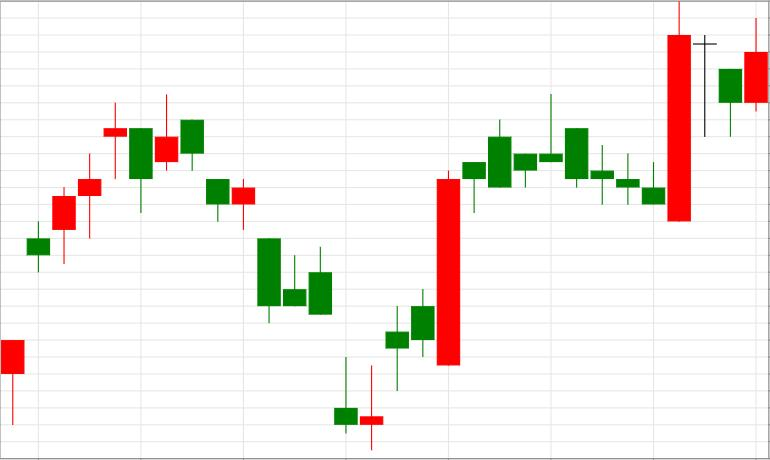bullish_engulfing_rise: (539, 2, 691, 221)
